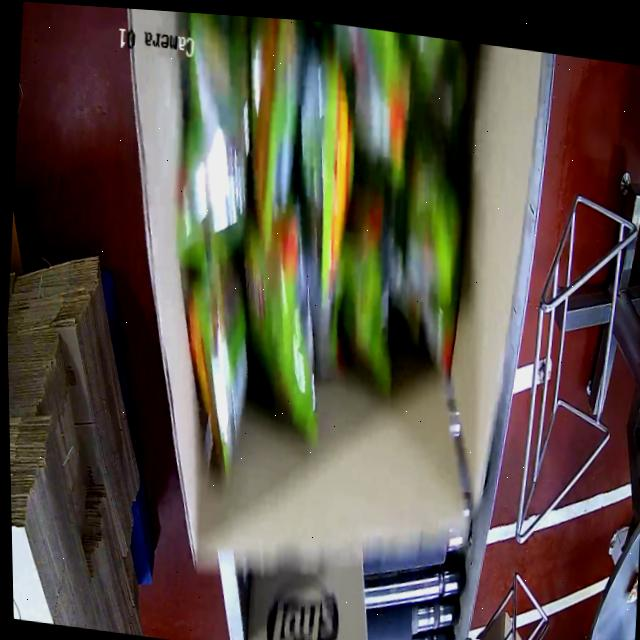YOGURT_HERB: (143, 10, 478, 472)
